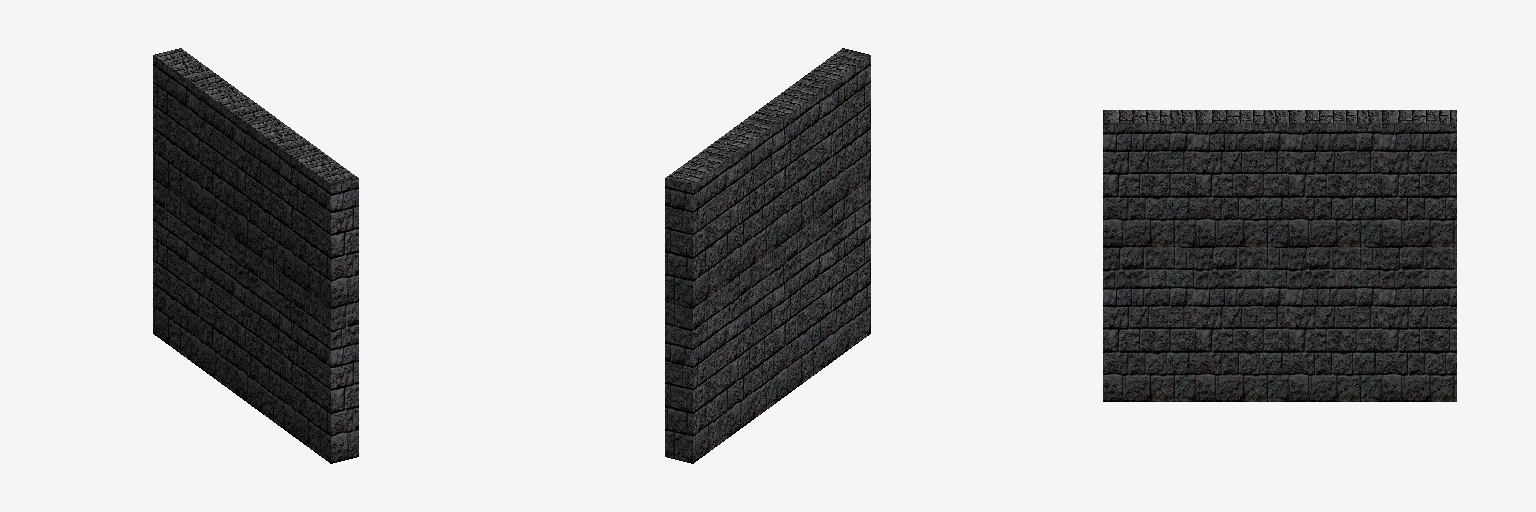
The picture shows the model from 3 angles: view 1: azimuth 30°, elevation 25°; view 2: azimuth 150°, elevation 25°; view 3: azimuth 270°, elevation 25°; orthographic projection.
Parts seen in each view (by area): view 1: SketchUp_ID2.001_pared; view 2: SketchUp_ID2.001_pared; view 3: SketchUp_ID2.001_pared.
Boxes of the visible parts, <box> form: SketchUp_ID2.001_pared: <box>153,48,358,463</box>; SketchUp_ID2.001_pared: <box>665,48,870,463</box>; SketchUp_ID2.001_pared: <box>1103,110,1456,401</box>.
Bounding box in the file's own units: 0.8994 × 8.67 × 9.99.
1 materials, 1 textured.